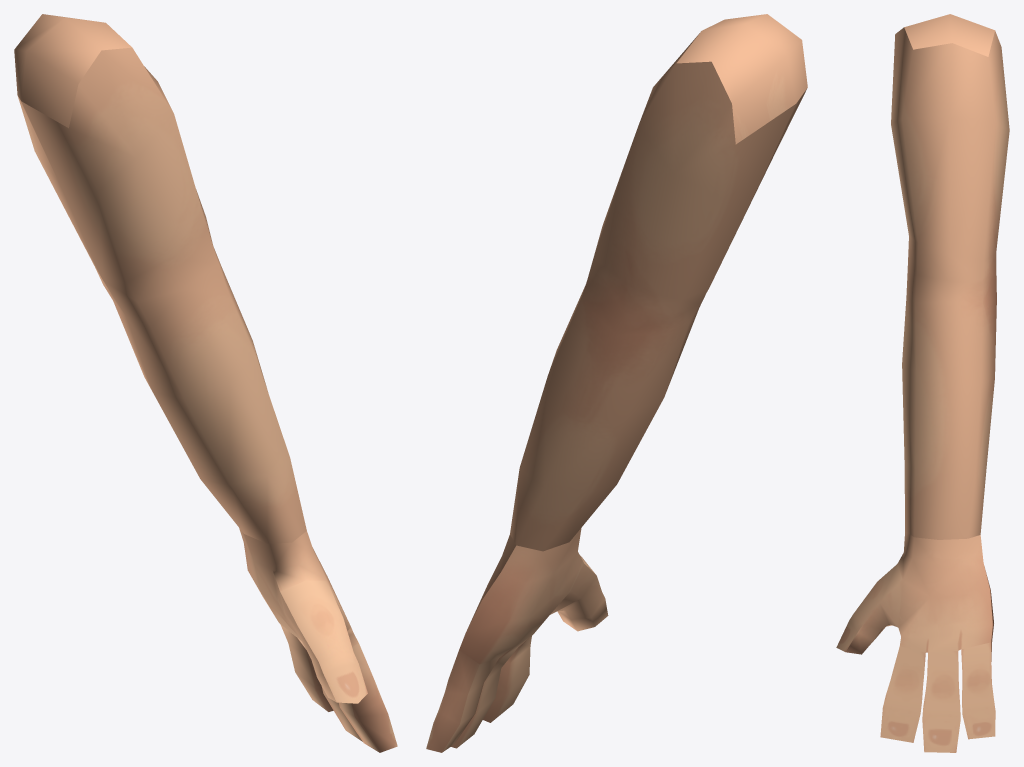
The model's file is L_arm.fbx.
The picture shows the model from 3 angles, left to right: view 1: azimuth 30°, elevation 25°; view 2: azimuth 150°, elevation 25°; view 3: azimuth 270°, elevation 25°; orthographic projection. The views are drawn at different scales.
Visible parts, largest first — view 1: L_arm; view 2: L_arm; view 3: L_arm.
Boxes of the visible parts, x1,y1,x2,y2 form: L_arm: (14, 14, 397, 752); L_arm: (426, 14, 807, 752); L_arm: (836, 14, 1009, 752).
Bounding box in the file's own units: 12.65 × 27.35 × 6.88.
